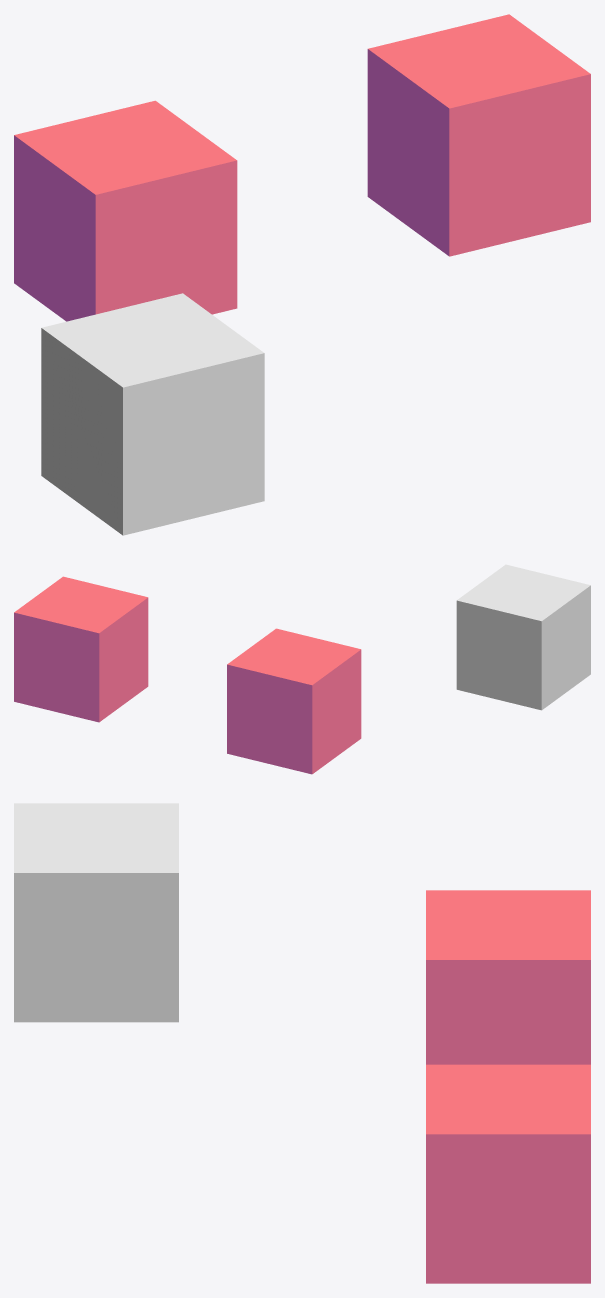
File: Level80.dae
The picture shows the model from 3 angles, top to bottom: view 1: azimuth 30°, elevation 25°; view 2: azimuth 150°, elevation 25°; view 3: azimuth 270°, elevation 25°; orthographic projection. The views are drawn at different scales.
Parts seen in each view (by area): view 1: Enemy1, Blocky, Enemy0; view 2: Blocky, Enemy0, Enemy1; view 3: Blocky, Enemy1, Enemy0.
Part boxes in pixels (box(x1,y1,x2,y2)): Enemy1: box(367, 14, 590, 256); Blocky: box(41, 293, 264, 535); Enemy0: box(14, 100, 237, 321); Blocky: box(456, 564, 590, 710); Enemy0: box(227, 628, 361, 774); Enemy1: box(14, 576, 148, 722); Blocky: box(14, 803, 178, 1022); Enemy1: box(426, 1064, 590, 1283); Enemy0: box(426, 890, 590, 1064).
Size of what is drawn, in the model's own units: 3.8 by 2.8 by 0.8.
